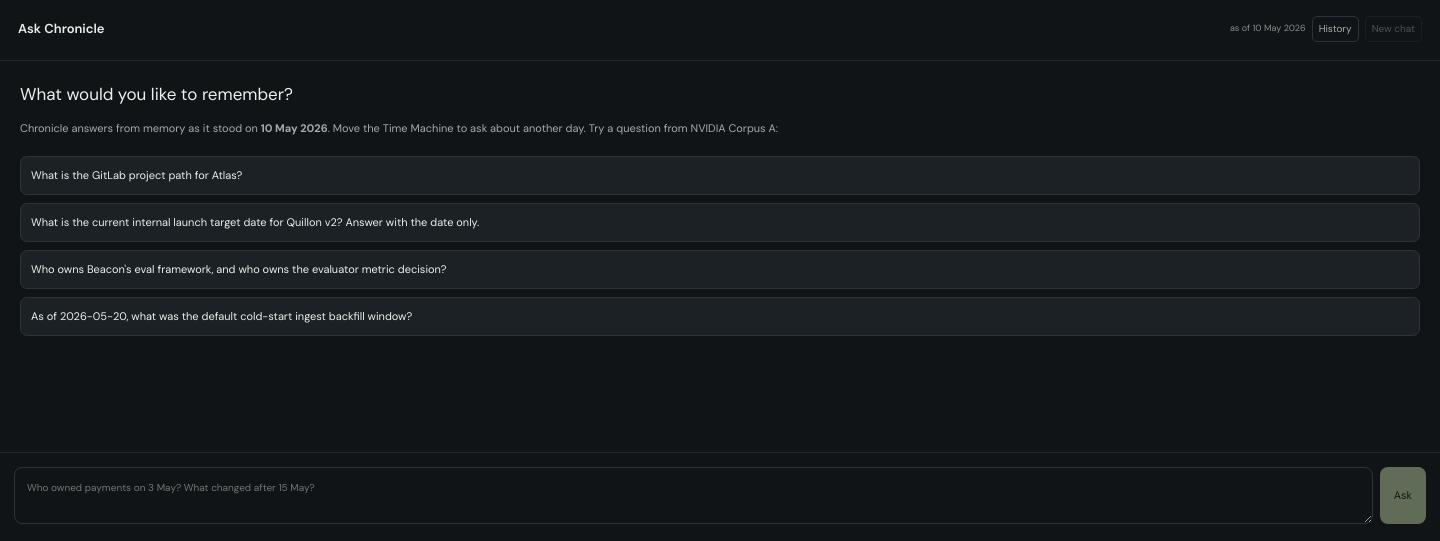
Test: sends the question with the as-of date
Type "Who owned payments?" into the text box. click: (693, 496)
box: [14, 467, 1373, 524]
Then press Enter
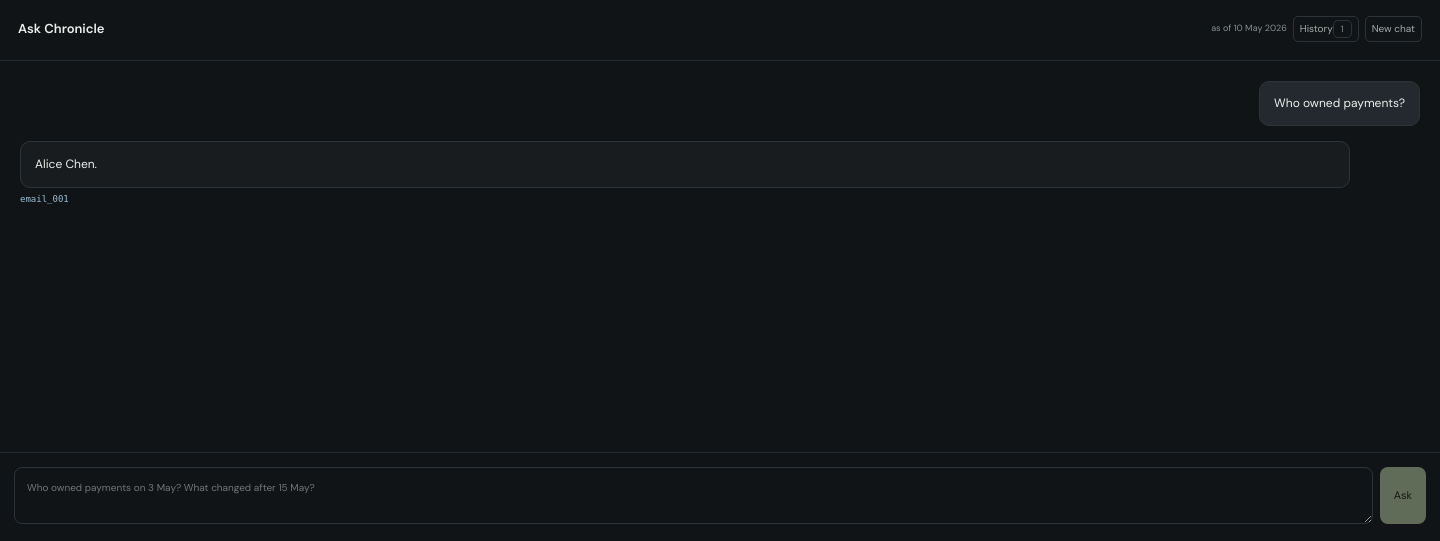
Expected: the text "Alice Chen." is shown, [20, 140, 1350, 188]
Expected: the text "email_001" is shown, [20, 194, 69, 204]
